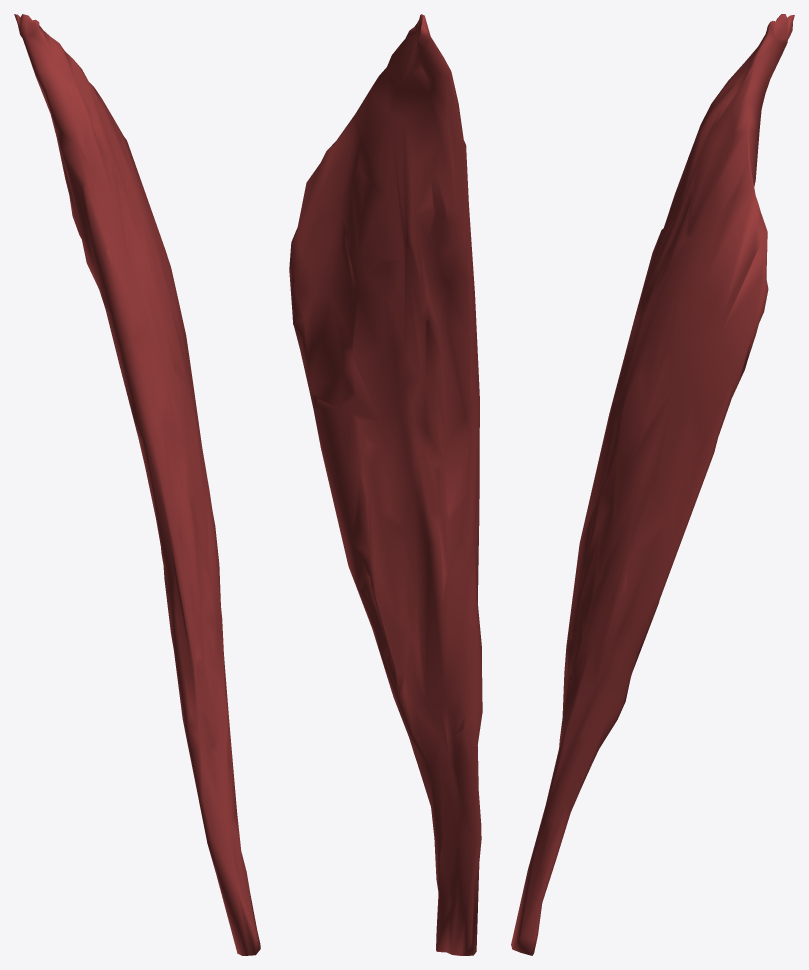
Rendered from radial-head-of-flexor-digitorum-superficialis-l.glb.
3 views of the same model, side by side, from view 1: azimuth 30°, elevation 25°; view 2: azimuth 150°, elevation 25°; view 3: azimuth 270°, elevation 25° (orthographic). The views are drawn at different scales.
Visible parts, largest first — view 1: Radial head of flexor digitorum superficialis.l; view 2: Radial head of flexor digitorum superficialis.l; view 3: Radial head of flexor digitorum superficialis.l.
Boxes of the visible parts, <box> form: Radial head of flexor digitorum superficialis.l: <box>14,14,260,955</box>; Radial head of flexor digitorum superficialis.l: <box>289,14,482,955</box>; Radial head of flexor digitorum superficialis.l: <box>511,14,794,955</box>.
Size of the model in its own units: 0.0291 by 0.1849 by 0.0537.
